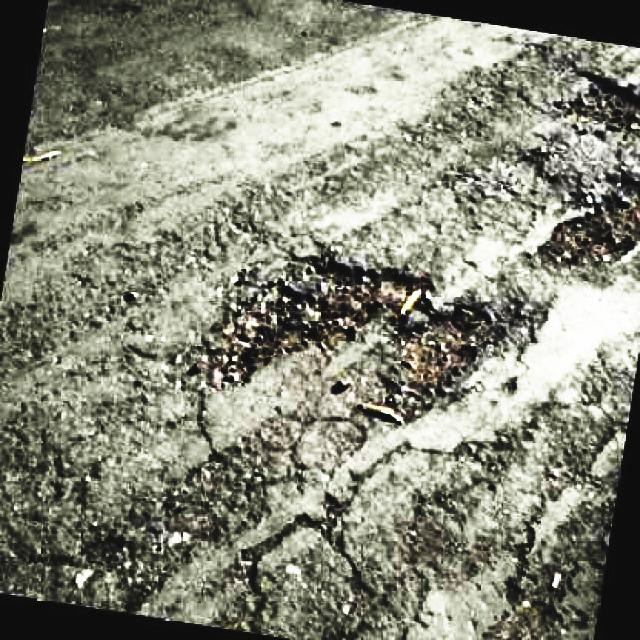pothole: (208, 252, 514, 428), (494, 457, 617, 632), (531, 182, 640, 284), (68, 531, 175, 617), (563, 64, 640, 144)
